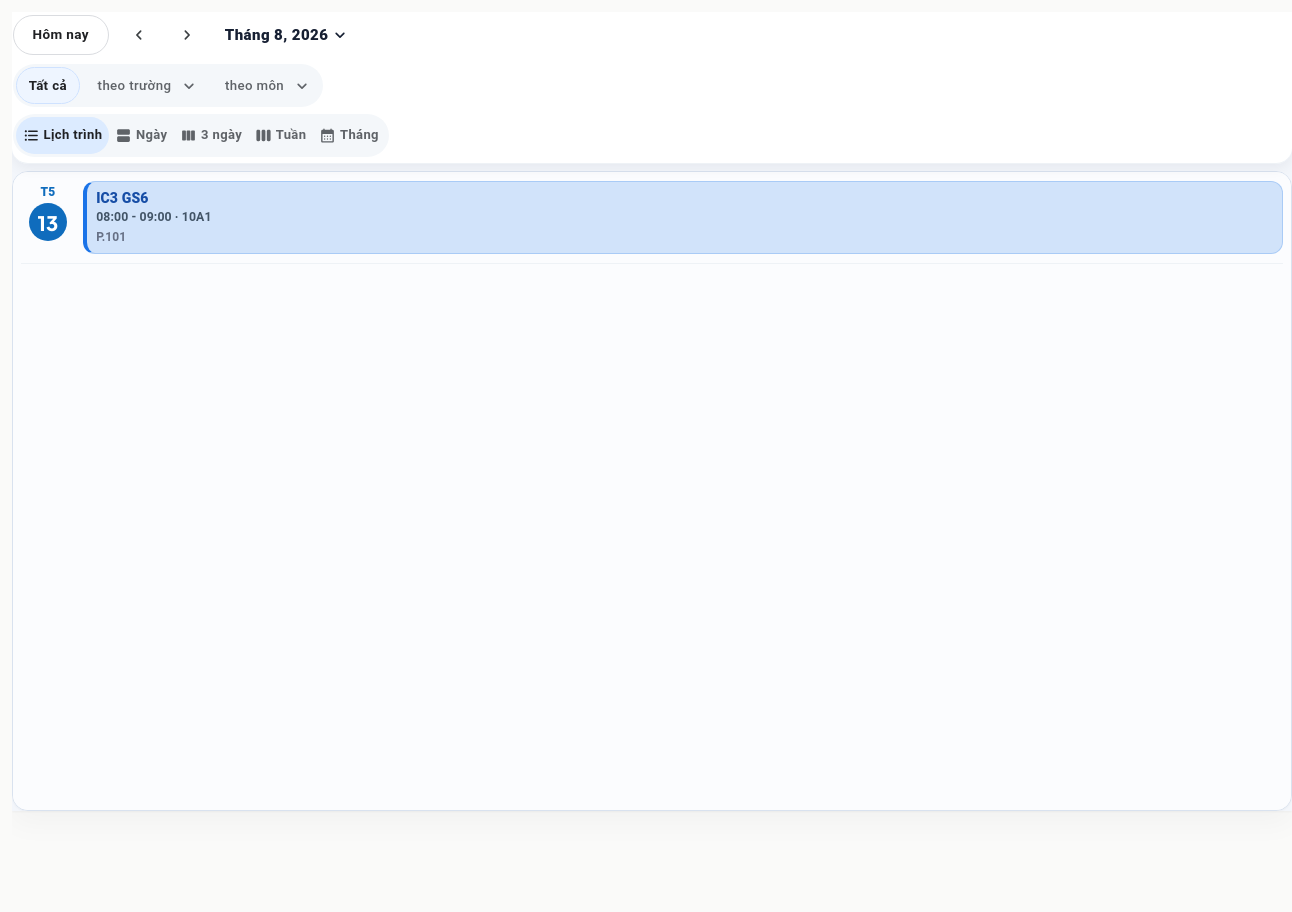
Test: Teacher mobile calendar controls › đóng mini calendar mặc định và chỉ mount sau khi bấm tiêu đề tháng
This screenshot has width=1292, height=912.
What coordinates should you click on to do the following:
click the button with aria-label "Mở lịch tháng 8, 2026"
I would click on:
 (286, 35)
Its box is [217,13,354,57].
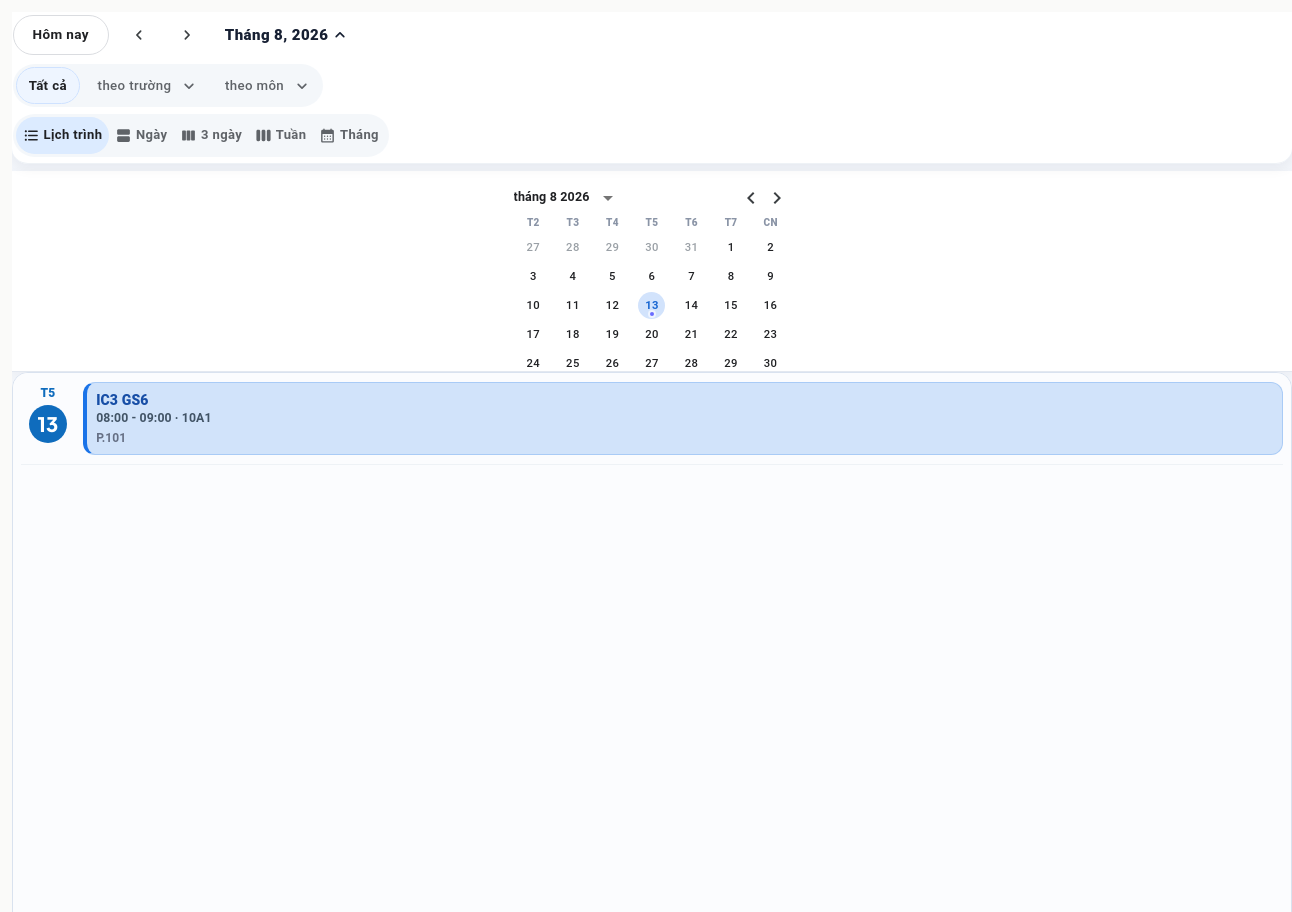
Now the button with aria-label "Đóng lịch tháng 8, 2026" is expanded
Now the element with test id "erg-mobile-mini-calendar" is shown, box [12,170,1291,372]
What coordinates should you click on to do the following:
click the button with aria-label "Đóng lịch tháng 8, 2026"
I would click on:
 (286, 35)
Its box is [217,13,354,57].
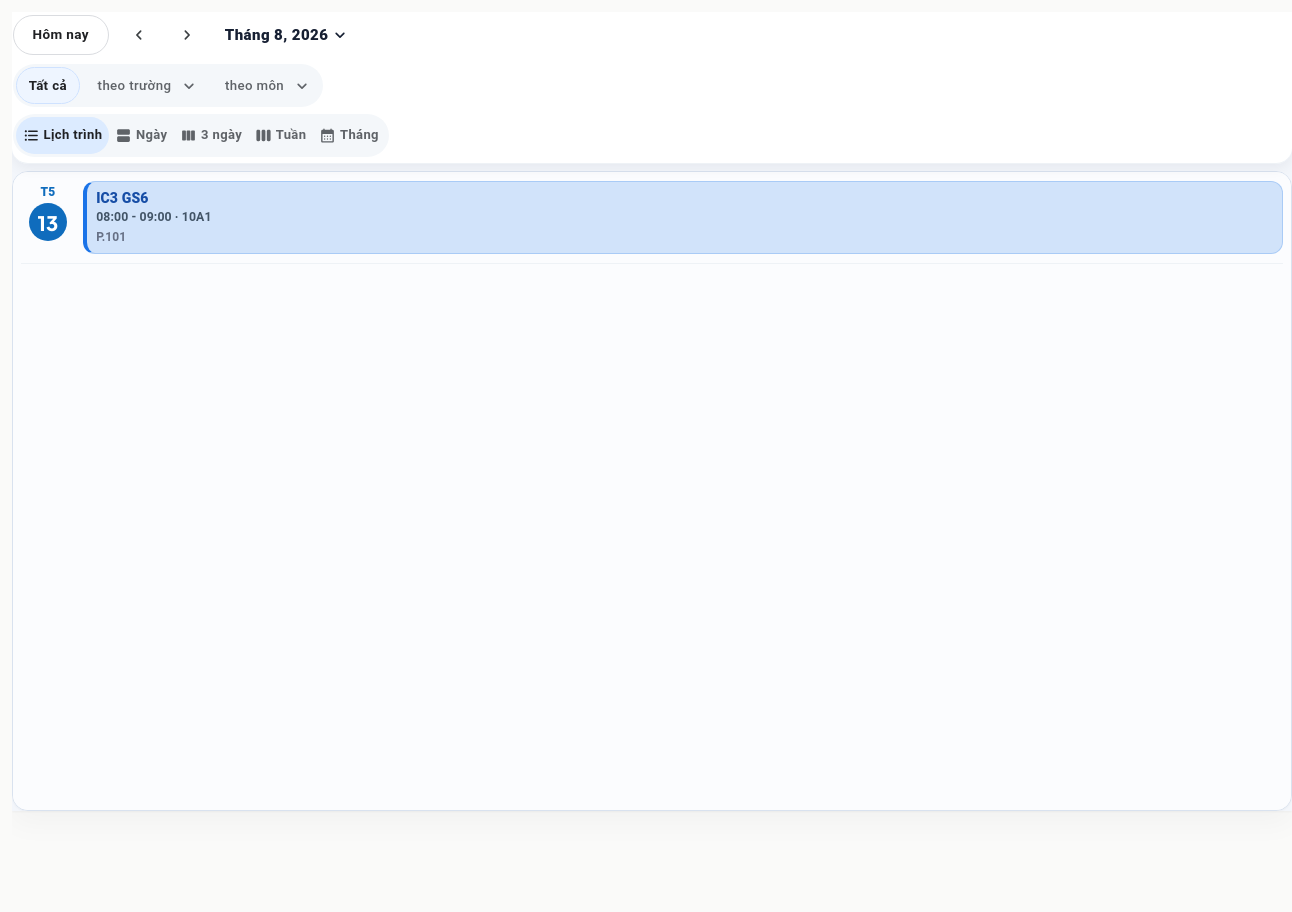
Now the element with test id "erg-mobile-mini-calendar" is gone
